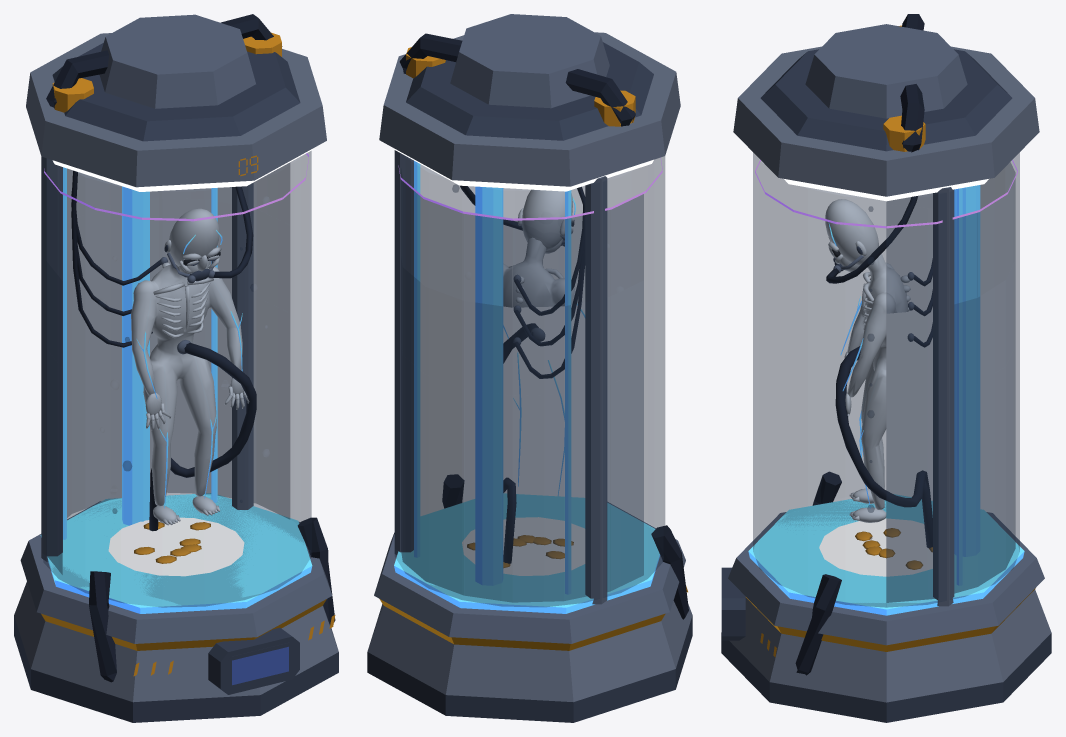
The model's file is lab_cocoon_tall_cryo.glb.
3 renders of one model, left to right at view 1: azimuth 30°, elevation 25°; view 2: azimuth 150°, elevation 25°; view 3: azimuth 270°, elevation 25°, orthographic.
Parts seen in each view (by area): view 1: bubble, abdominal_socket, crown, arm_capillary, closed_eyelid, articulated_digit, crown_hose, head_gasket, digit, warning_band, print, meniscus; view 2: bubble, abdominal_socket, crown, arm_capillary, closed_eyelid, crown_hose, articulated_digit, head_gasket, warning_band, digit, meniscus; view 3: bubble, crown, abdominal_socket, arm_capillary, closed_eyelid, articulated_digit, crown_hose, head_gasket, digit, warning_band, meniscus.
Boxes of the visible parts, bbox=[...] form: bubble: bbox=[42, 151, 311, 607]; abdominal_socket: bbox=[20, 14, 332, 643]; crown: bbox=[14, 33, 338, 702]; arm_capillary: bbox=[40, 167, 312, 613]; closed_eyelid: bbox=[14, 43, 338, 722]; articulated_digit: bbox=[131, 208, 249, 525]; crown_hose: bbox=[46, 14, 335, 682]; head_gasket: bbox=[52, 148, 312, 576]; digit: bbox=[52, 32, 335, 676]; warning_band: bbox=[41, 599, 326, 650]; print: bbox=[232, 646, 288, 685]; meniscus: bbox=[44, 153, 308, 221]; bubble: bbox=[395, 150, 664, 606]; abdominal_socket: bbox=[374, 14, 685, 643]; crown: bbox=[367, 32, 692, 702]; arm_capillary: bbox=[394, 161, 660, 613]; closed_eyelid: bbox=[367, 42, 692, 722]; crown_hose: bbox=[399, 33, 688, 619]; articulated_digit: bbox=[503, 189, 582, 307]; head_gasket: bbox=[393, 148, 653, 575]; warning_band: bbox=[379, 599, 665, 650]; digit: bbox=[406, 47, 687, 592]; meniscus: bbox=[398, 157, 662, 220]; bubble: bbox=[753, 153, 1019, 607]; crown: bbox=[721, 46, 1051, 702]; abdominal_socket: bbox=[728, 24, 1044, 645]; arm_capillary: bbox=[748, 185, 1024, 615]; closed_eyelid: bbox=[721, 49, 1051, 722]; articulated_digit: bbox=[825, 199, 910, 522]; crown_hose: bbox=[795, 14, 932, 675]; head_gasket: bbox=[784, 179, 988, 576]; digit: bbox=[760, 25, 932, 657]; warning_band: bbox=[746, 588, 1035, 651]; meniscus: bbox=[755, 160, 1017, 228].
Bounding box in the file's own units: 2.2 × 4.4 × 2.2.
